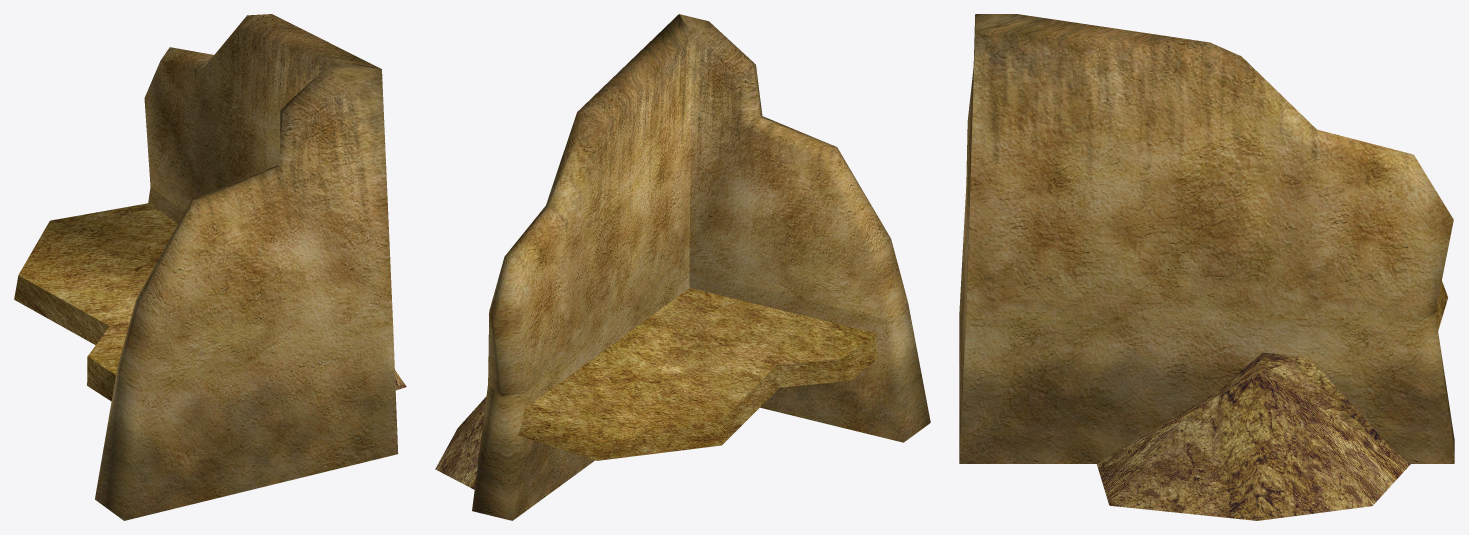
3 views of the same model, side by side, from view 1: azimuth 30°, elevation 25°; view 2: azimuth 150°, elevation 25°; view 3: azimuth 270°, elevation 25° (orthographic). The views are drawn at different scales.
Visible parts, largest first — view 1: hr_rn1; view 2: hr_rn1; view 3: hr_rn1.
Part boxes in pixels (<box>): hr_rn1: <box>14,14,406,520</box>; hr_rn1: <box>435,14,930,520</box>; hr_rn1: <box>959,14,1454,520</box>.
Size of the model in its own units: 4.66 by 4.5 by 4.73.
5 materials, 5 textured.
